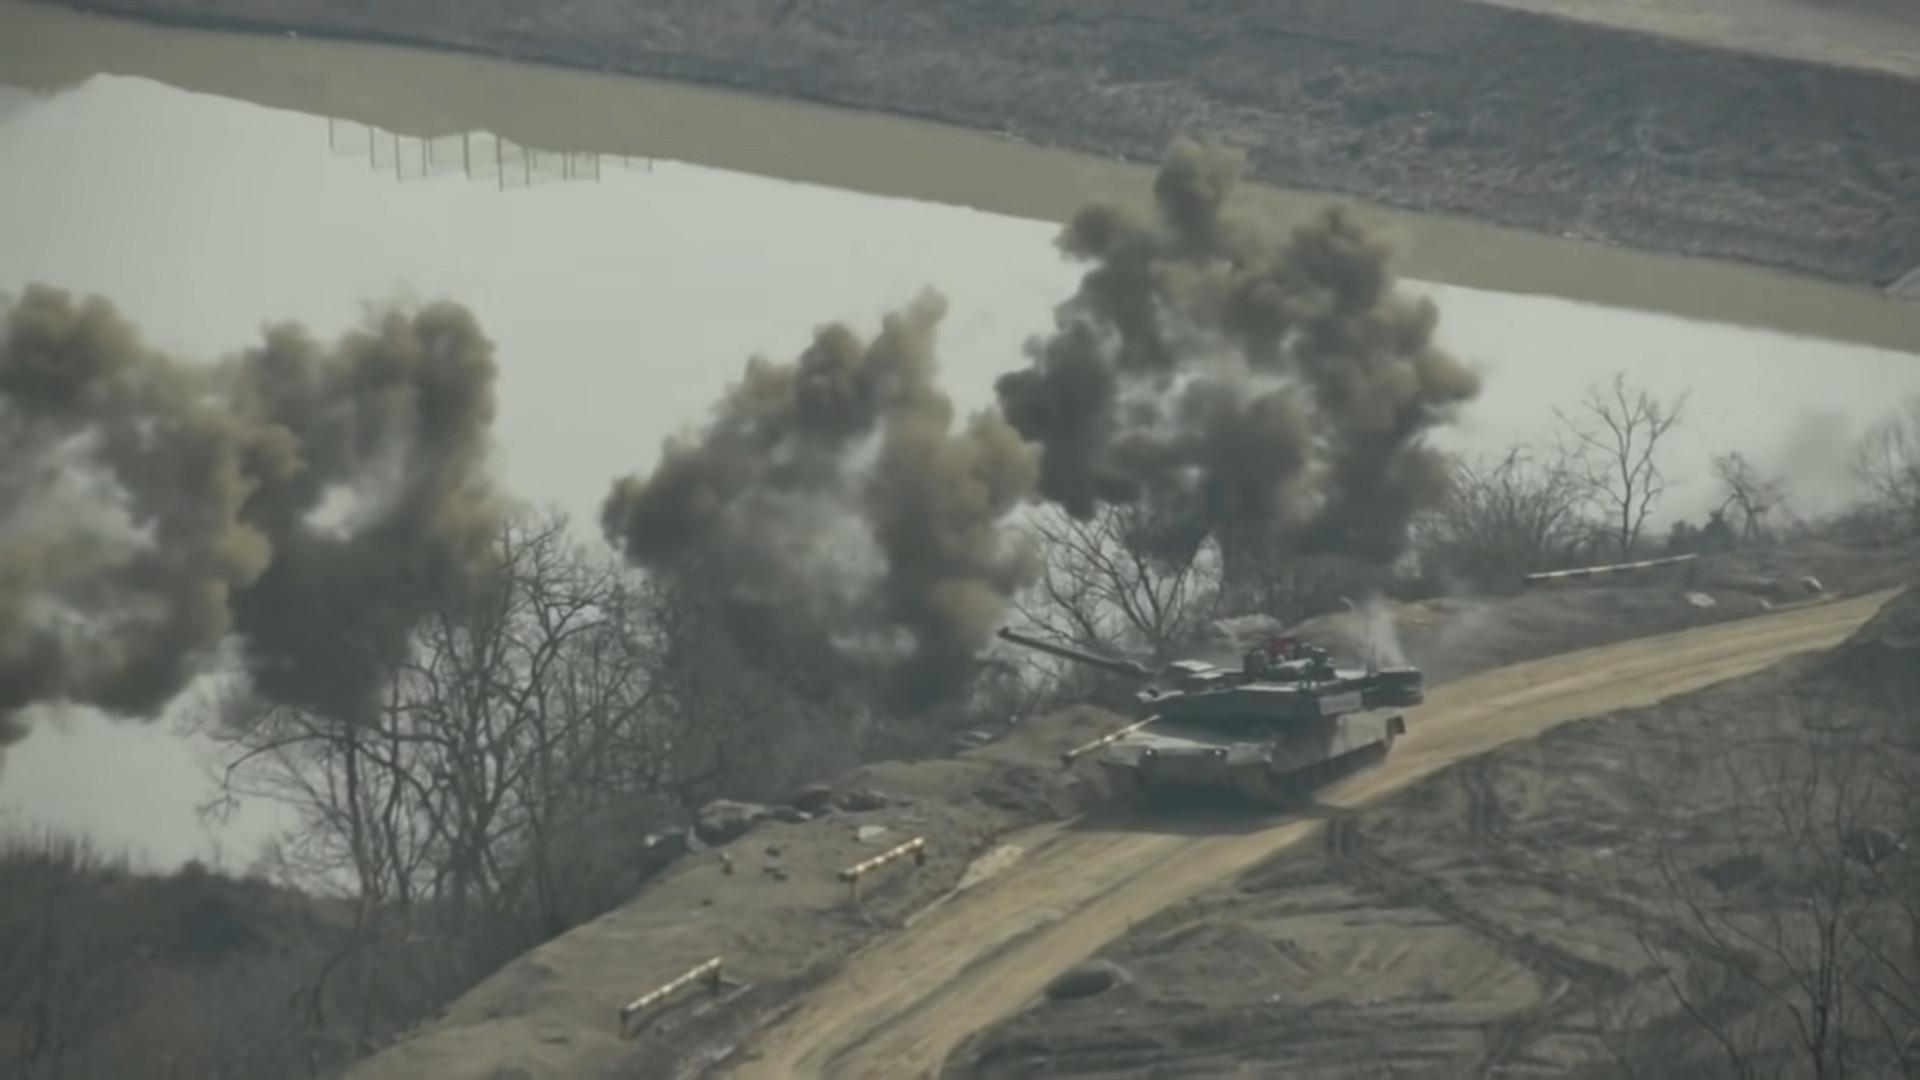tank: (996, 626, 1424, 819)
